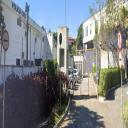NoSeguir: (117, 30, 122, 50)
